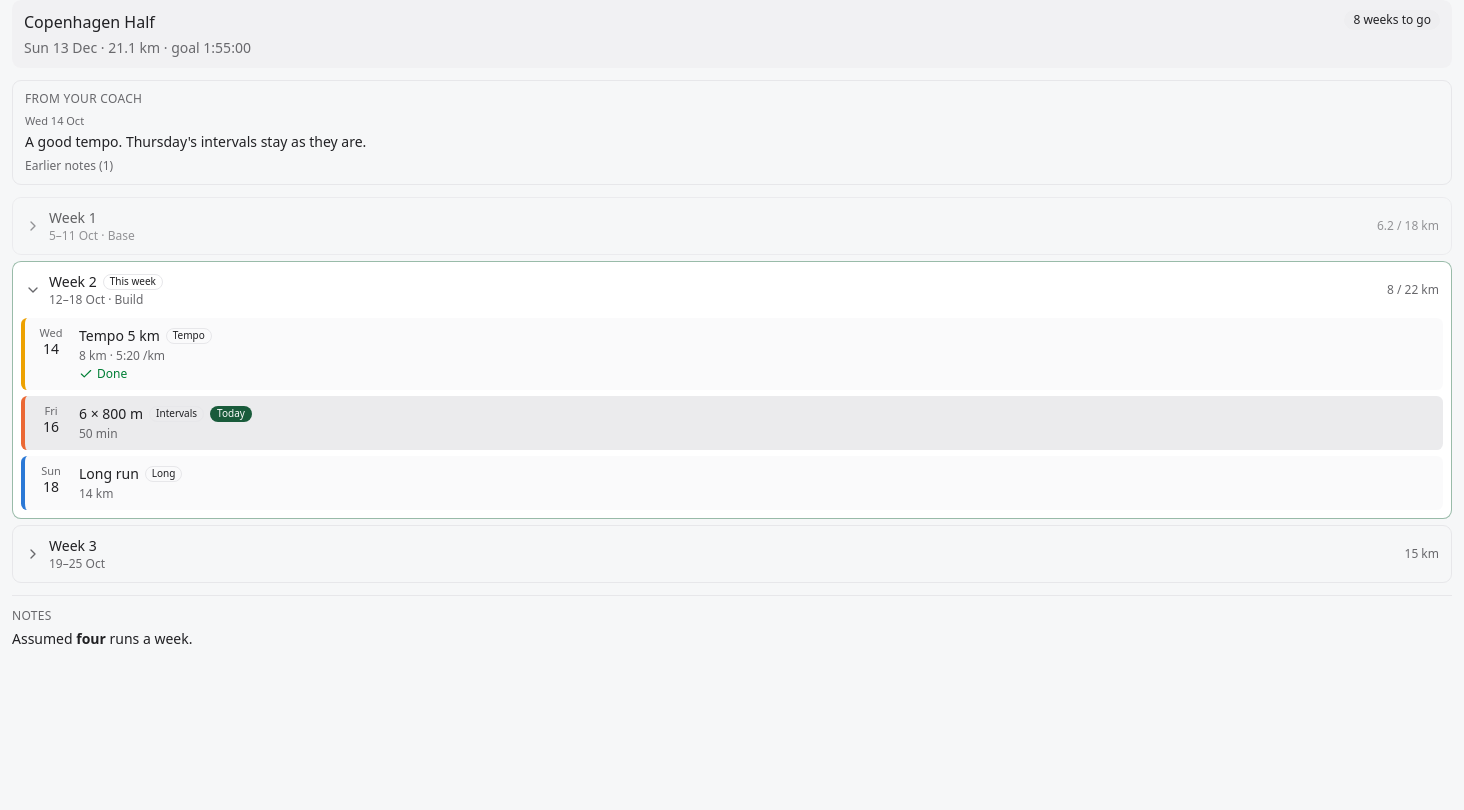
Test: TrainingPlanView › shows the coach's newest note, and the earlier ones on a tap
Expected: the element "From your coach" shows "A good tempo.", [25,132,366,150]
Expected: the element "From your coach" does not show "A steady start.", [12,80,1452,184]
Click the button "Earlier notes (1)".
click(69, 166)  # box [25,158,113,174]
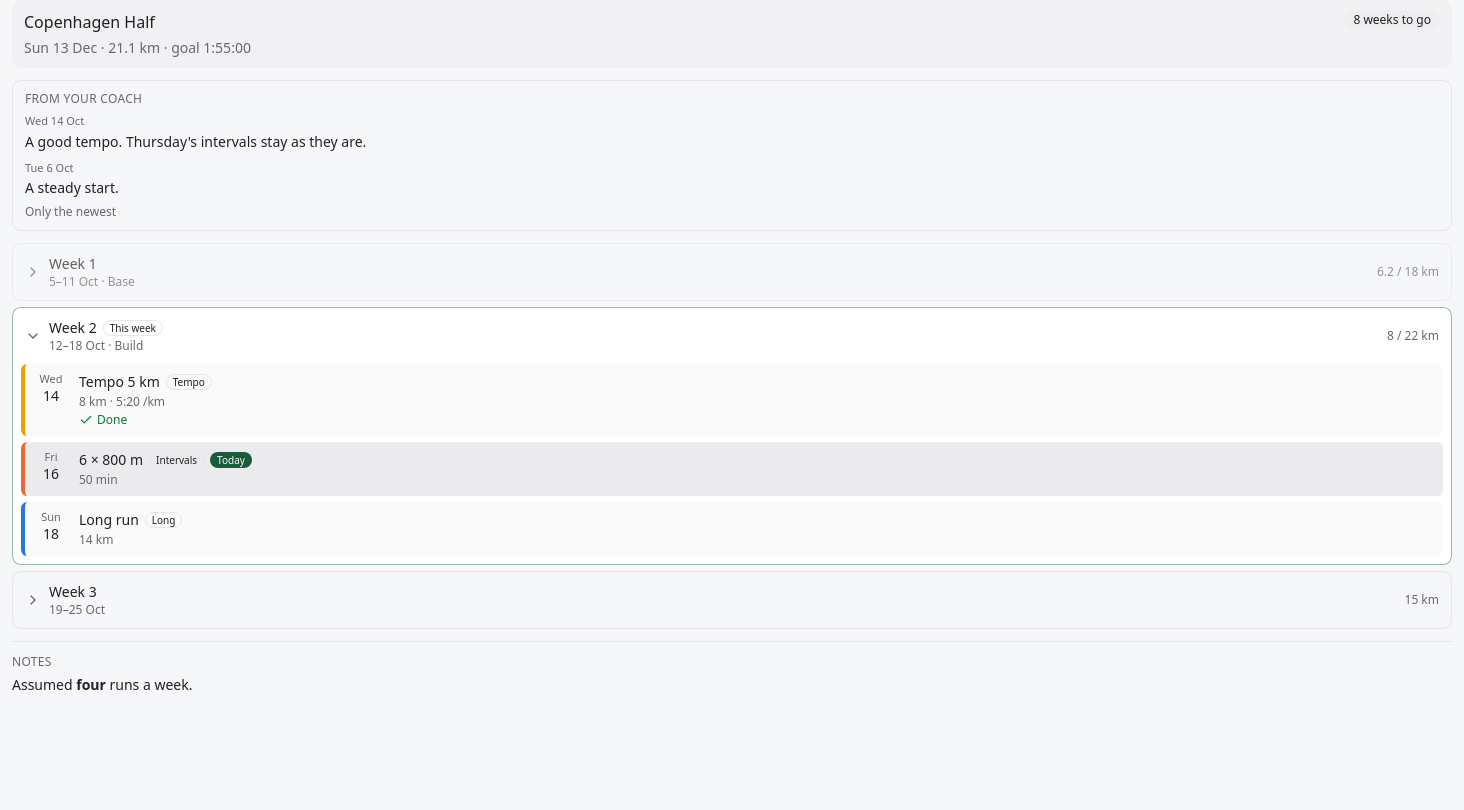
Expected: the element "From your coach" shows "A steady start.", [25,178,119,197]
